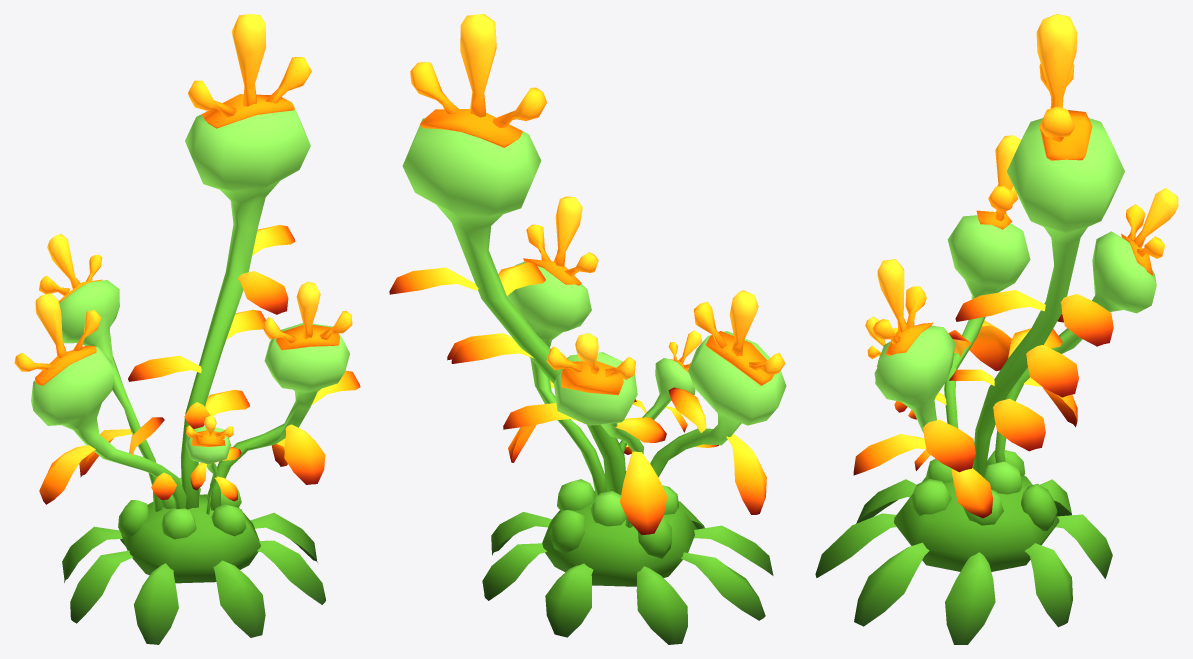
File: sunset_anemone.glb
3 views of the same model, side by side, from view 1: azimuth 30°, elevation 25°; view 2: azimuth 150°, elevation 25°; view 3: azimuth 270°, elevation 25° (orthographic). The views are drawn at different scales.
Visible parts, largest first — view 1: Sunset Anemone; view 2: Sunset Anemone; view 3: Sunset Anemone.
Boxes of the visible parts, x1,y1,x2,y2 form: Sunset Anemone: (14, 14, 360, 644); Sunset Anemone: (389, 14, 786, 644); Sunset Anemone: (815, 14, 1178, 644).
Bounding box in the file's own units: 1.04 × 1.62 × 0.8668.
Materials: 1 (1 with a texture image).
